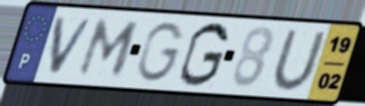8: (230, 24, 277, 92)
G: (176, 20, 232, 89), (134, 20, 188, 84)
M: (74, 17, 144, 78)
U: (271, 28, 329, 93)
V: (47, 15, 97, 76)
